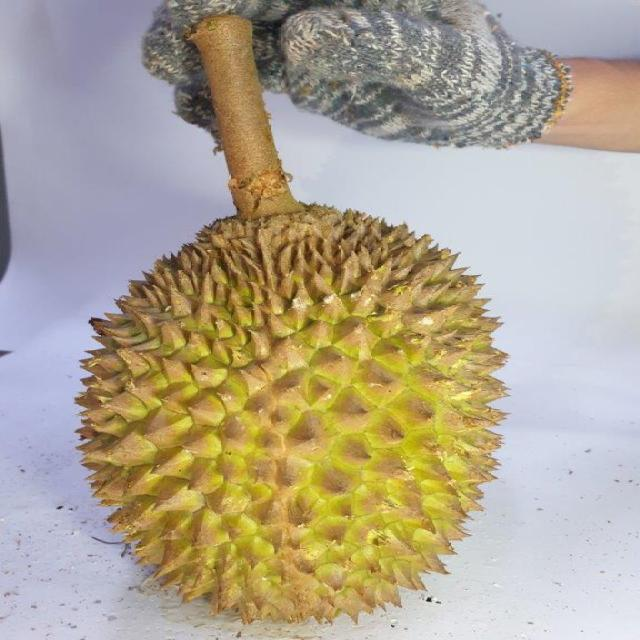mature: (64, 199, 517, 626)
